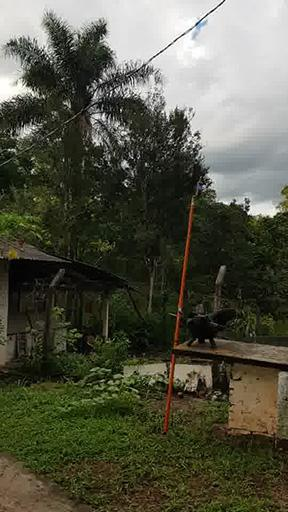Vara_Manobra: (163, 198, 195, 433)
